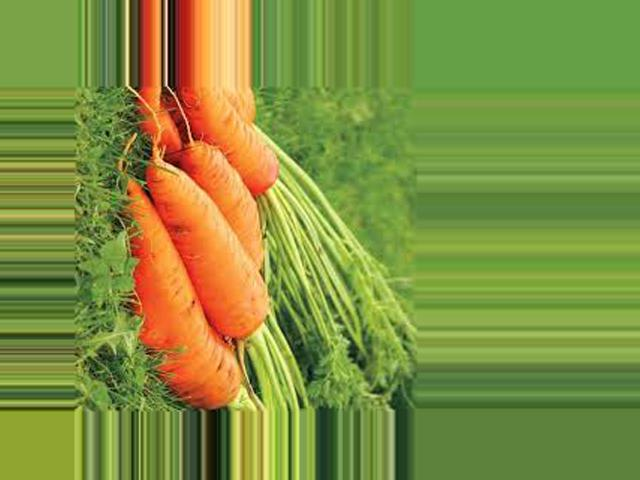carrot: (167, 95, 289, 194)
